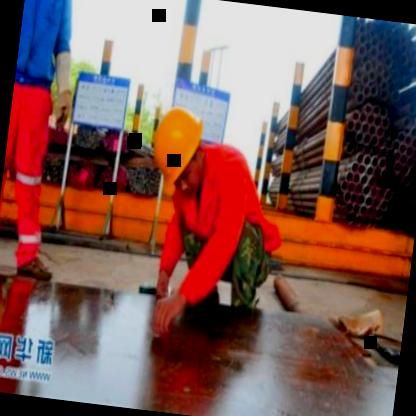helmet: (140, 98, 215, 209)
